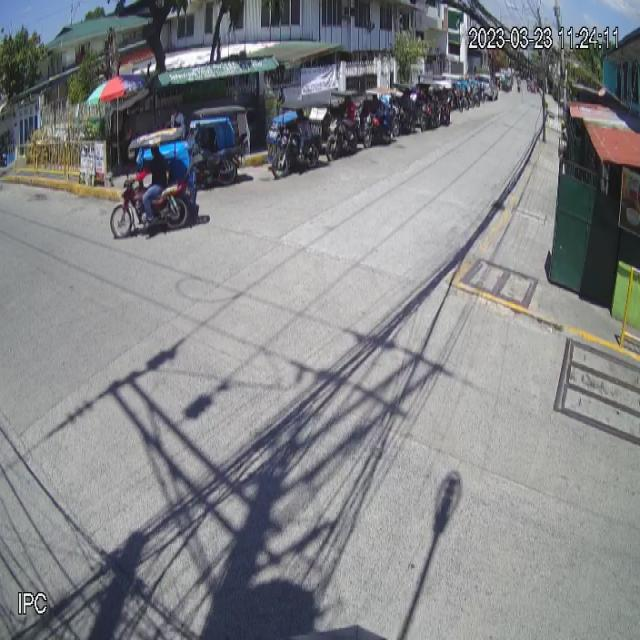Tricycle: (110, 126, 197, 240)
